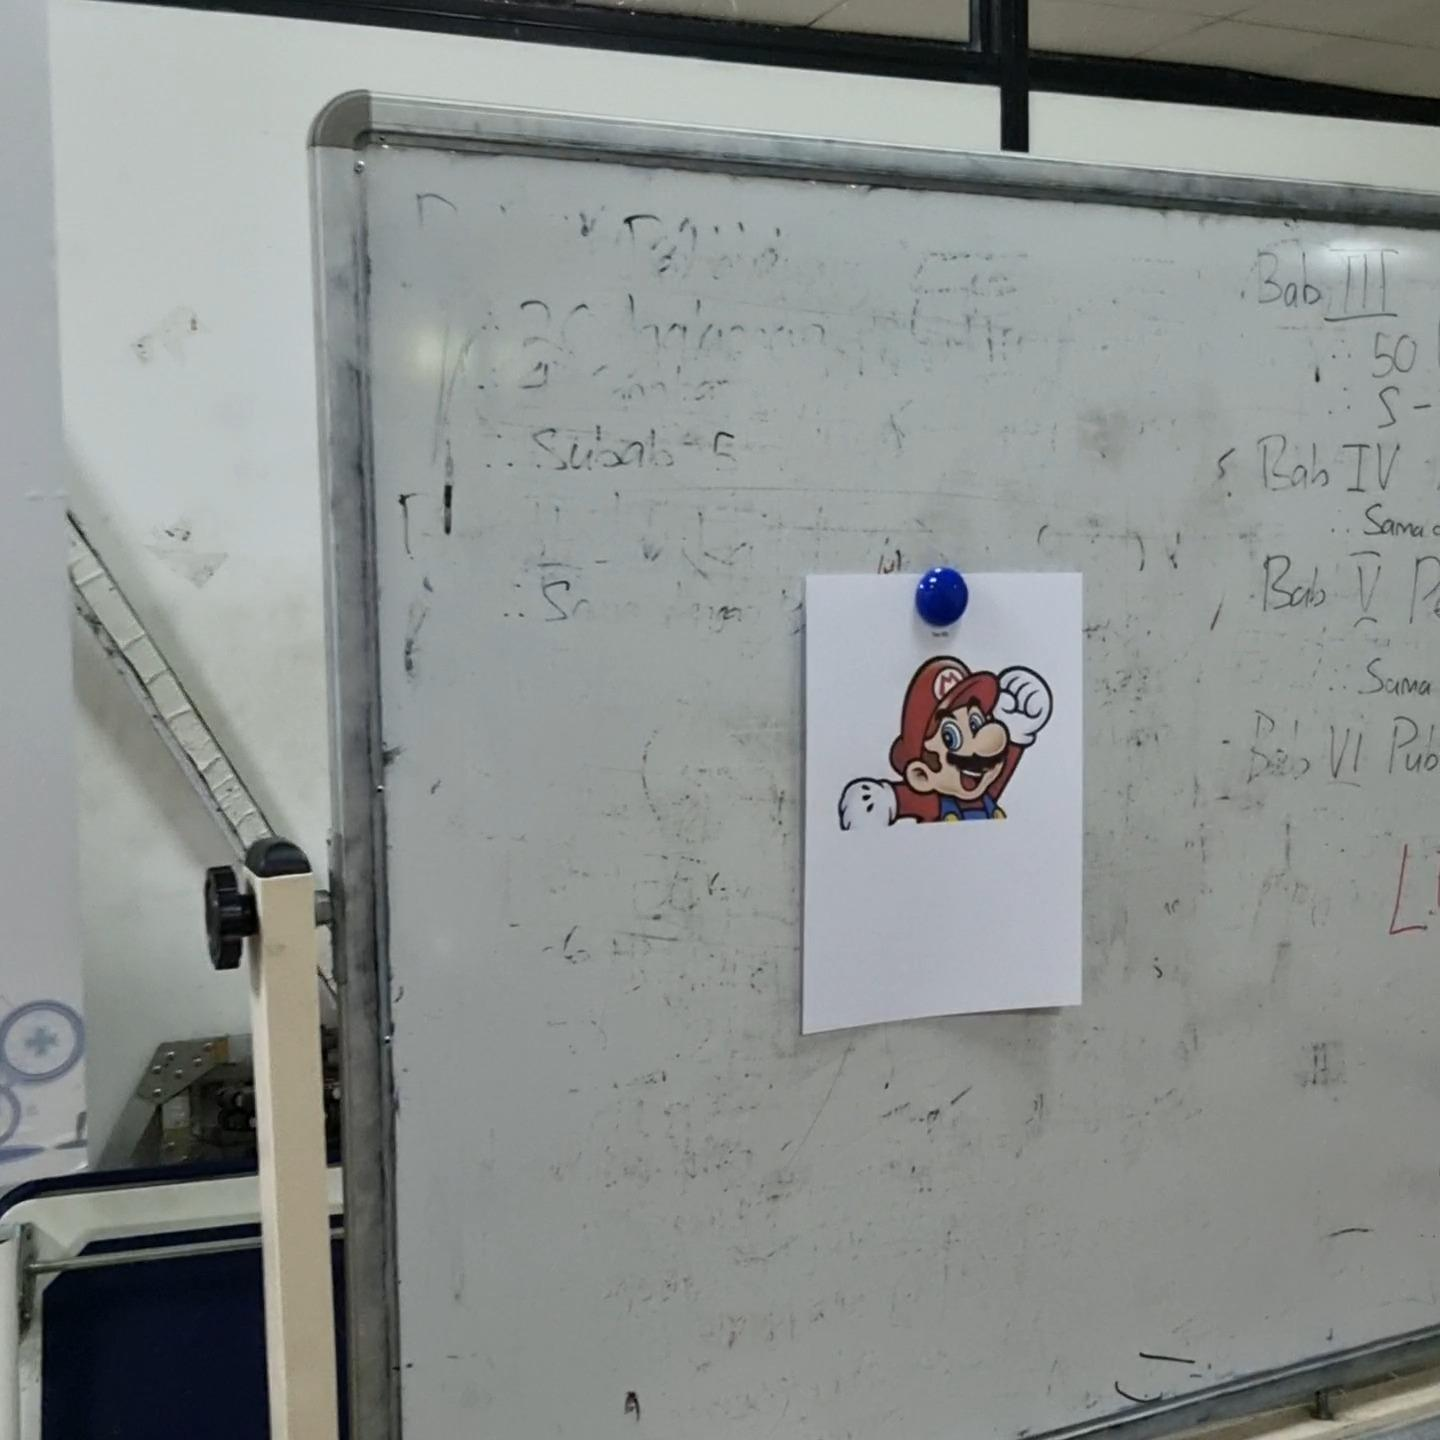mario: (827, 647, 1059, 841)
